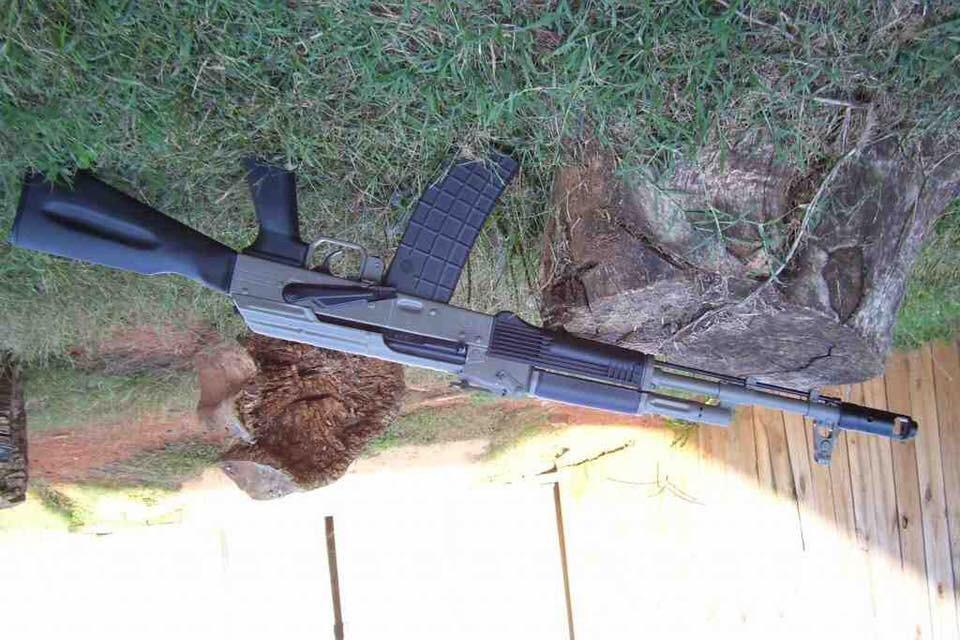larga: (9, 134, 918, 465)
